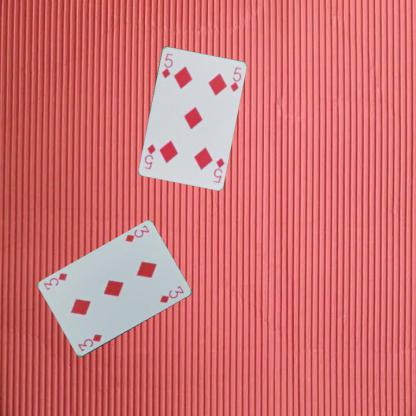3d: (123, 222, 150, 244), (75, 332, 103, 353)
5d: (159, 50, 174, 79), (211, 155, 225, 184)
